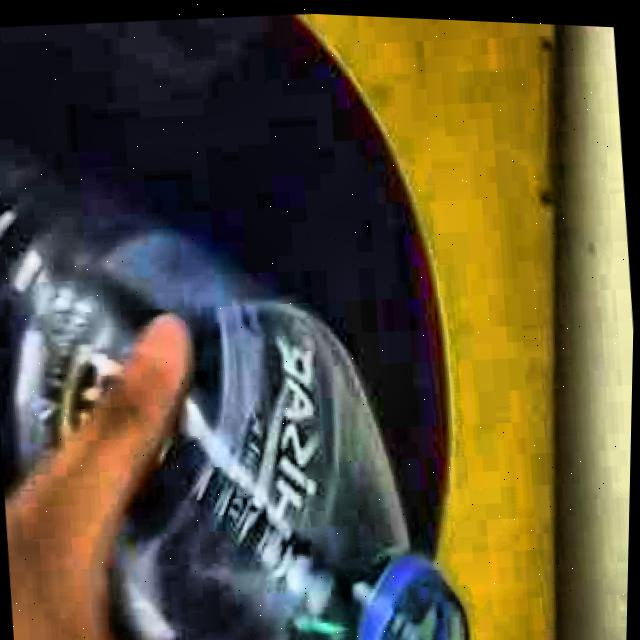plastic: (107, 297, 471, 640)
